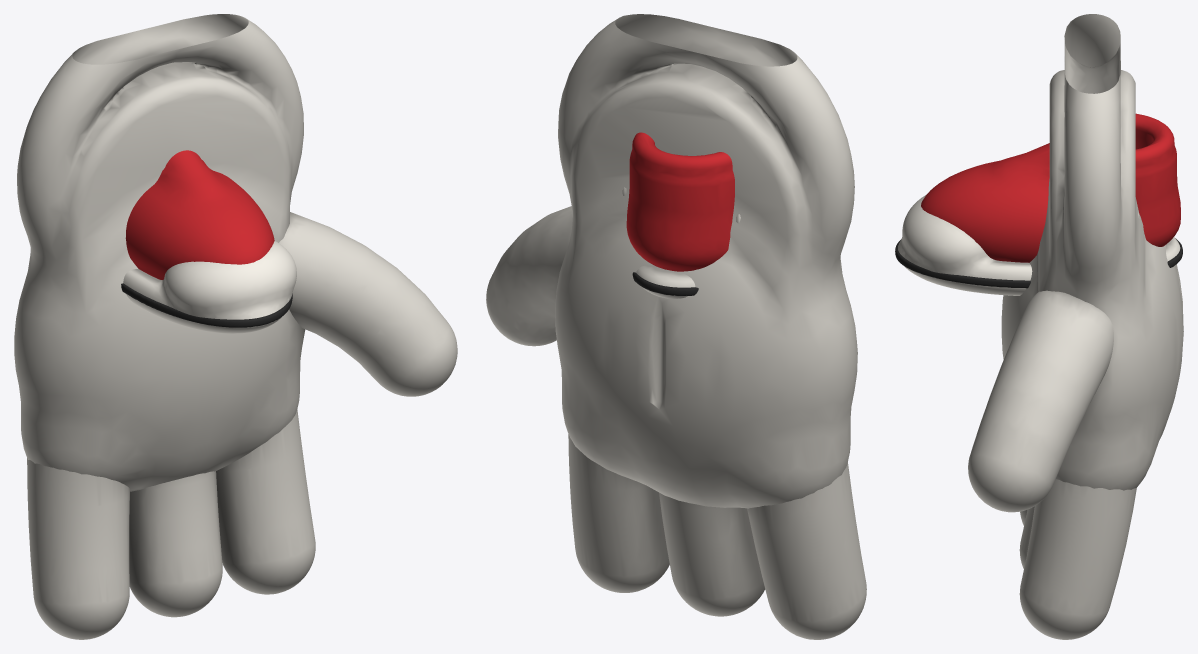
The model's file is kit_tiny.glb.
3 views of the same model, side by side, from view 1: azimuth 30°, elevation 25°; view 2: azimuth 150°, elevation 25°; view 3: azimuth 270°, elevation 25° (orthographic). The views are drawn at different scales.
Parts seen in each view (by area): view 1: Glove_Palm, Glove_Thumb, Glove_F2, Glove_F0, Shoe_Upper, Glove_F1, Shoe_Sole, Shoe_Stripe; view 2: Glove_Palm, Glove_F2, Shoe_Upper, Glove_F0, Glove_F1, Glove_Thumb, Shoe_Sole, Shoe_Stripe; view 3: Glove_Palm, Glove_Thumb, Shoe_Upper, Glove_F0, Shoe_Sole, Shoe_Stripe, Glove_F1.
Boxes of the visible parts, x1=… form: Glove_Palm: x1=14, y1=14, x2=305, y2=491; Glove_Thumb: x1=279, y1=212, x2=457, y2=396; Glove_F2: x1=27, y1=458, x2=129, y2=639; Glove_F0: x1=216, y1=409, x2=315, y2=594; Shoe_Upper: x1=125, y1=150, x2=274, y2=279; Glove_F1: x1=129, y1=471, x2=222, y2=617; Shoe_Sole: x1=123, y1=241, x2=296, y2=333; Shoe_Stripe: x1=121, y1=283, x2=292, y2=327; Glove_Palm: x1=555, y1=14, x2=857, y2=508; Glove_F2: x1=747, y1=462, x2=866, y2=639; Shoe_Upper: x1=626, y1=132, x2=734, y2=271; Glove_F0: x1=568, y1=434, x2=669, y2=592; Glove_F1: x1=659, y1=492, x2=765, y2=616; Glove_Thumb: x1=486, y1=206, x2=572, y2=346; Shoe_Sole: x1=636, y1=265, x2=695, y2=298; Shoe_Stripe: x1=632, y1=272, x2=698, y2=295; Glove_Palm: x1=1001, y1=14, x2=1183, y2=490; Glove_Thumb: x1=968, y1=290, x2=1113, y2=512; Shoe_Upper: x1=921, y1=113, x2=1180, y2=262; Glove_F0: x1=1019, y1=479, x2=1136, y2=639; Shoe_Sole: x1=898, y1=195, x2=1180, y2=295; Shoe_Stripe: x1=895, y1=238, x2=1182, y2=288; Glove_F1: x1=1019, y1=506, x2=1034, y2=568.
Bounding box in the file's own units: 1.6 × 2.22 × 1.08.
